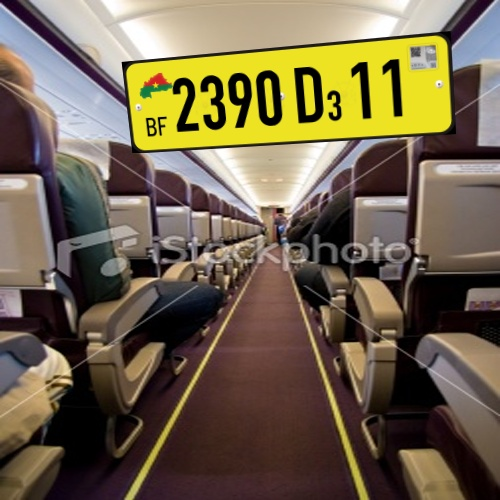plate: (106, 27, 463, 160)
